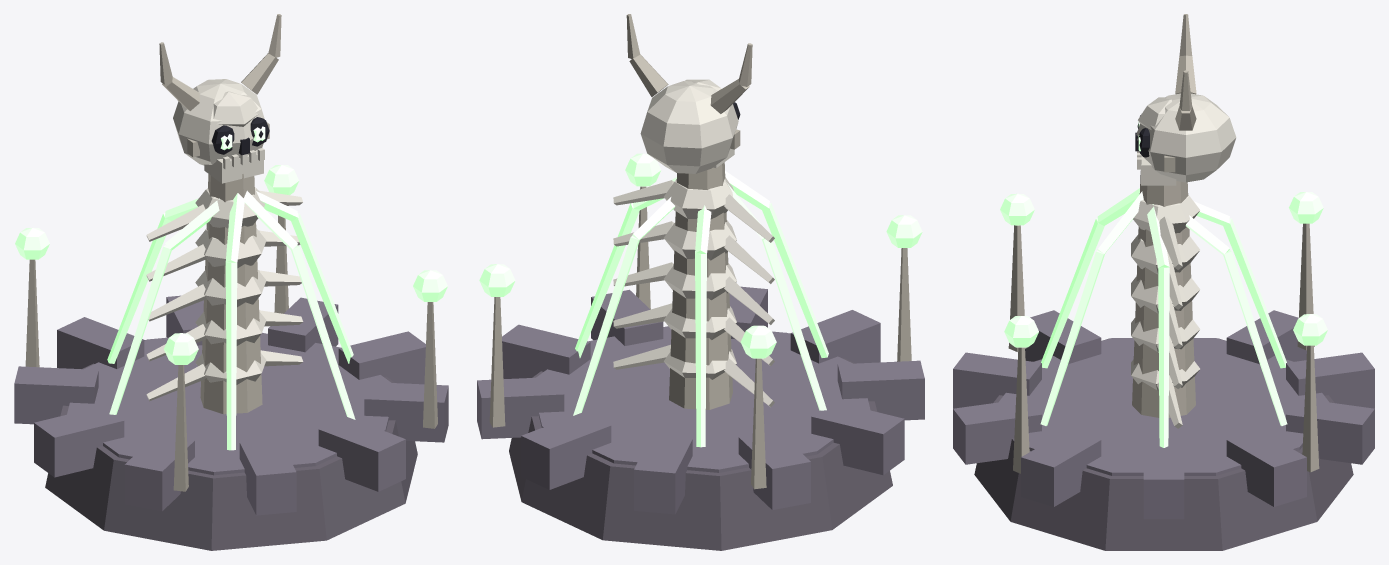
The model's file is heal_fountain.glb.
3 views of the same model, side by side, from view 1: azimuth 30°, elevation 25°; view 2: azimuth 150°, elevation 25°; view 3: azimuth 270°, elevation 25° (orthographic). The views are drawn at different scales.
Visible parts, largest first — view 1: heal_fountain; view 2: heal_fountain; view 3: heal_fountain.
Part boxes in pixels (bbox=[...]): heal_fountain: bbox=[14, 14, 448, 550]; heal_fountain: bbox=[477, 14, 924, 550]; heal_fountain: bbox=[953, 14, 1374, 550].
Bounding box in the file's own units: 2.95 × 3.27 × 2.89.
